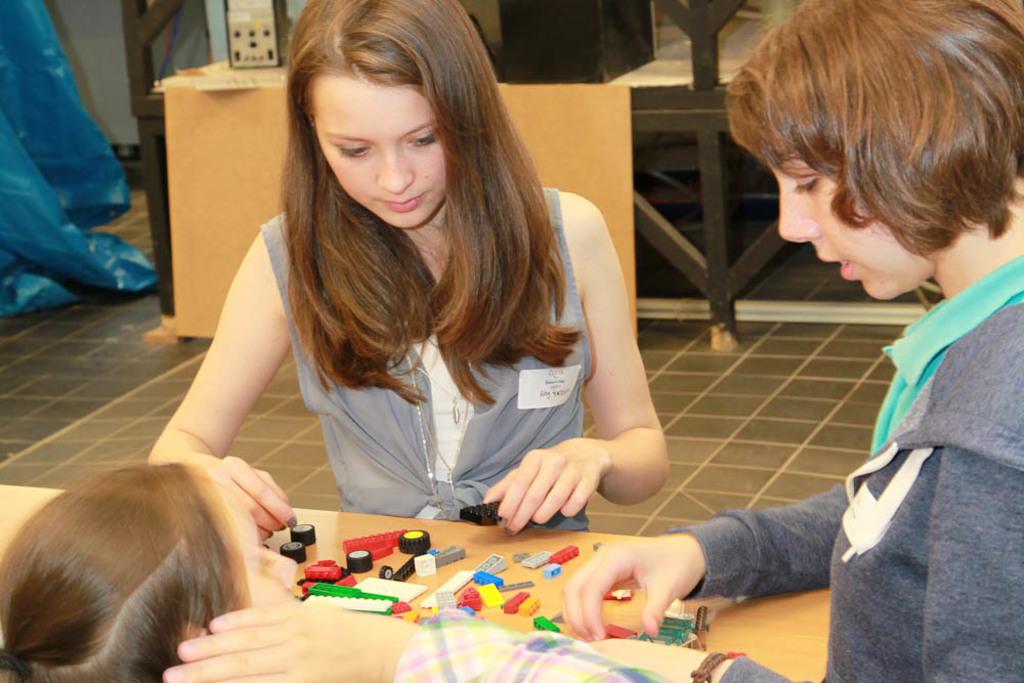Human-face: (764, 168, 935, 304), (309, 76, 446, 229), (216, 486, 298, 608)
